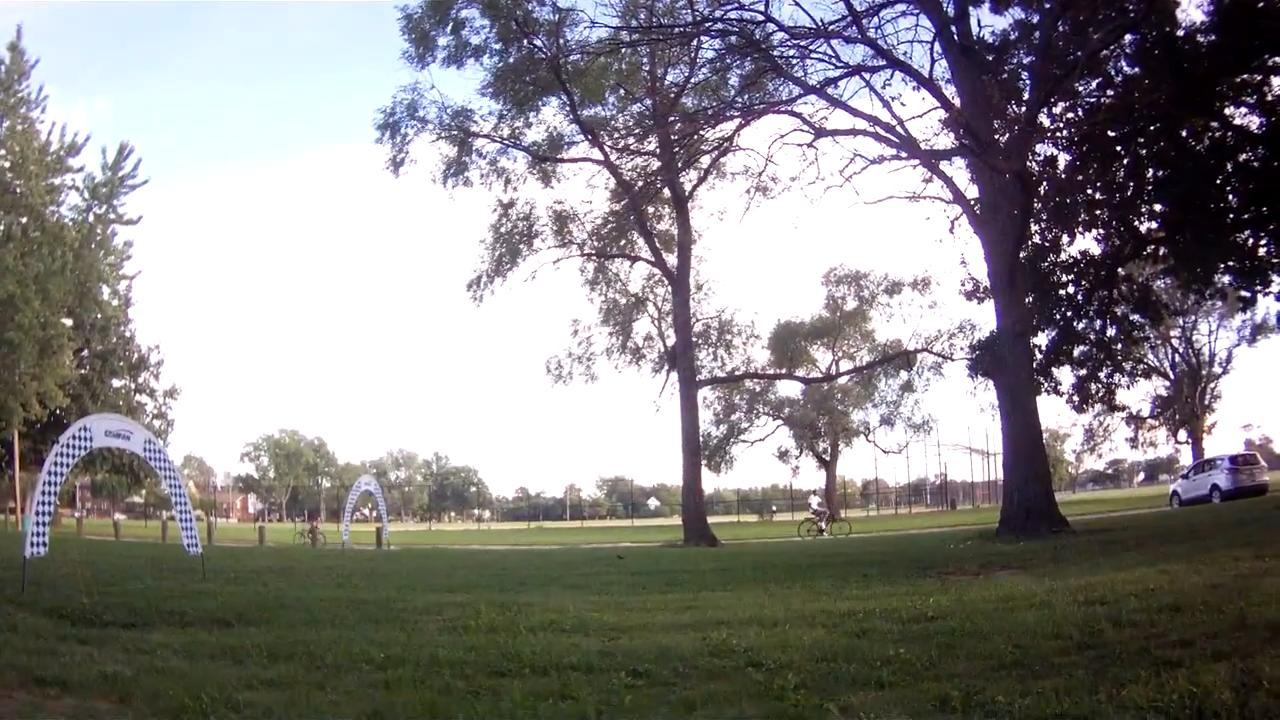gate: (21, 409, 203, 559)
